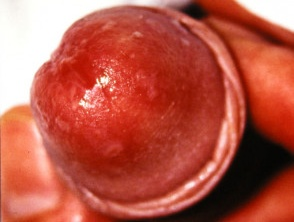SJS-TEN: (0, 0, 204, 193)
